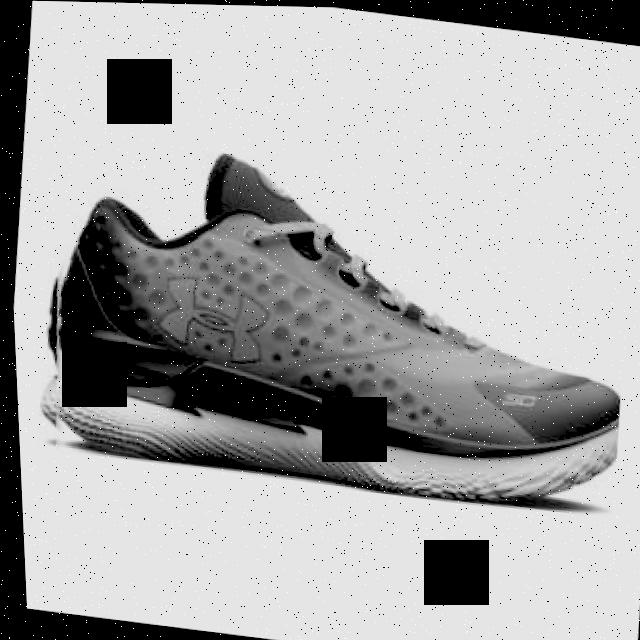shoe: (24, 131, 640, 516)
